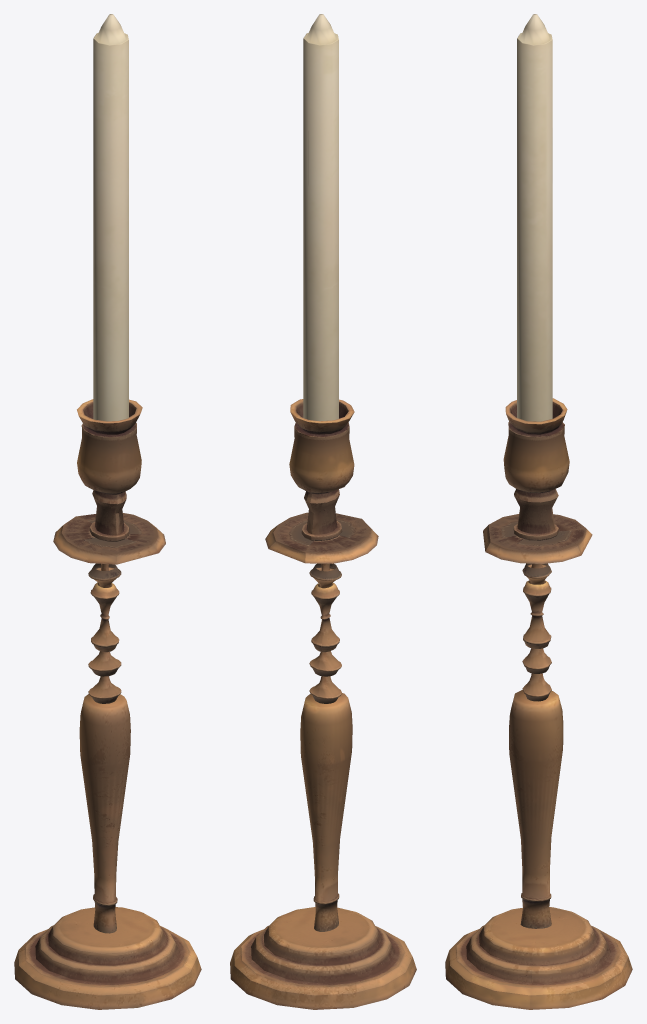
Rendered from SM_CandlestickSingle.FBX.
The picture shows the model from 3 angles, left to right: view 1: azimuth 30°, elevation 25°; view 2: azimuth 150°, elevation 25°; view 3: azimuth 270°, elevation 25°; orthographic projection.
Parts seen in each view (by area): view 1: SM_CandlestickSingle; view 2: SM_CandlestickSingle; view 3: SM_CandlestickSingle.
Part boxes in pixels (x1,y1,x2,y2): SM_CandlestickSingle: [14, 14, 201, 1009]; SM_CandlestickSingle: [230, 14, 416, 1009]; SM_CandlestickSingle: [445, 14, 632, 1009].
Size of what is drawn, in the model's own units: 16.89 by 16.83 by 94.74.
